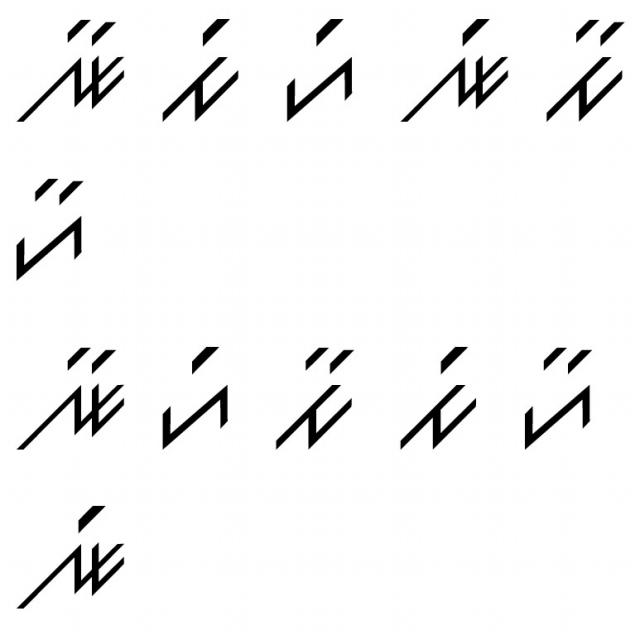han: (512, 344, 602, 458), (13, 176, 95, 280)
hang: (146, 340, 242, 454), (280, 10, 363, 121)
mban: (272, 336, 358, 453), (540, 16, 632, 123)
mbang: (154, 10, 247, 126), (393, 335, 483, 454)
ndan: (13, 337, 129, 464), (12, 13, 130, 127)
ndang: (394, 11, 514, 128), (11, 496, 129, 613)
